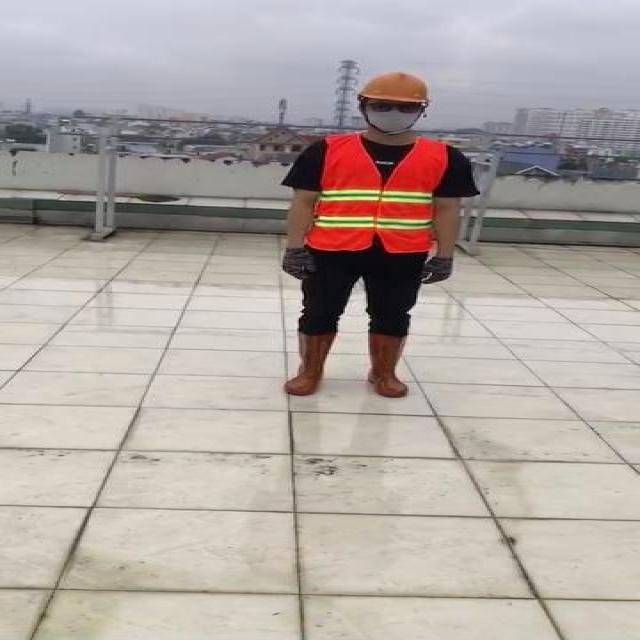boots: (281, 331, 336, 397), (362, 331, 410, 399)
face_mask: (364, 98, 425, 132)
glasses: (364, 99, 426, 116)
hand_glove: (420, 254, 455, 286), (281, 249, 315, 281)
head_helmet: (358, 70, 430, 104)
person: (270, 68, 470, 399)
vest: (309, 134, 446, 254)
